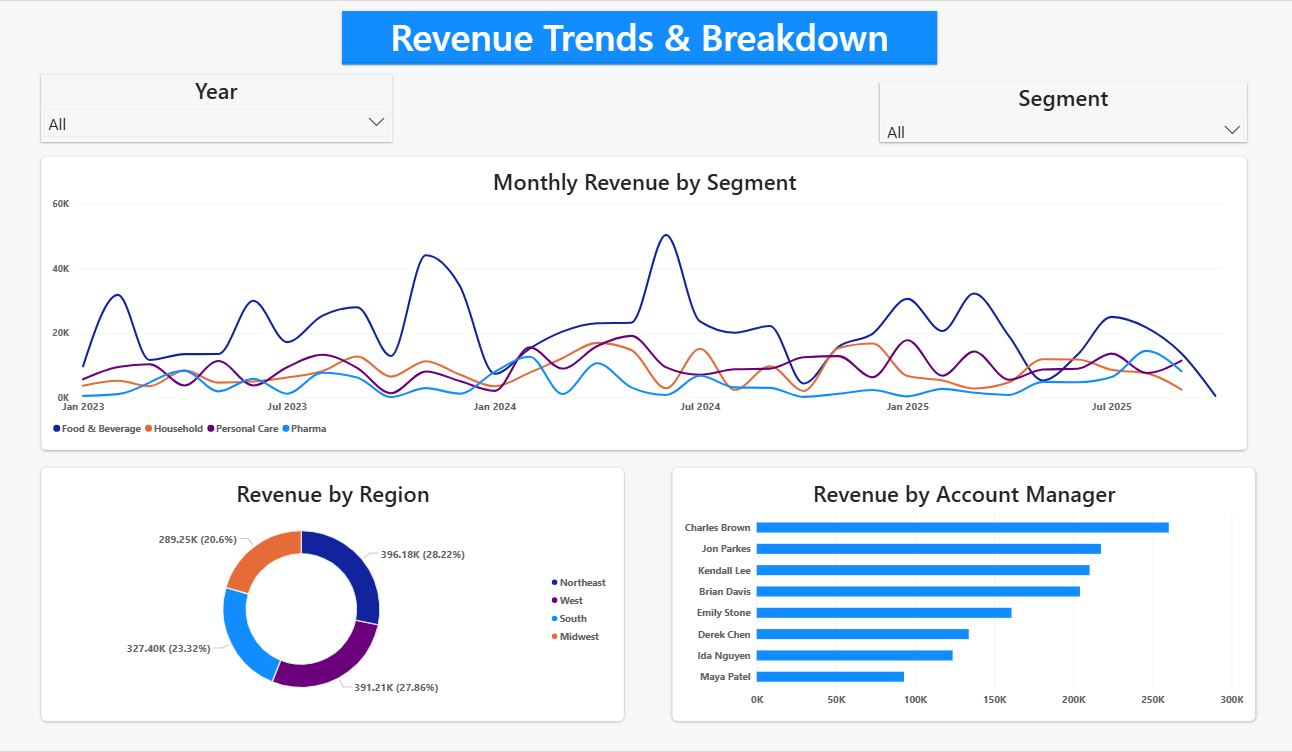

The page's visual inventory and layout, read from the dashboard file:
{"tool":"powerbi","page":{"name":"Revenue Trends","canvas":[1920,1080],"ordinal":1},"visuals":[{"type":"lineChart","title":"Monthly Revenue by Segment","fields":{"Category":["dim_Date.YearMonth"],"Series":["dim_Customers.Segment"],"Y":["_Measures.Total Revenue"]},"box":[98.3,223.7,1735.6,423.3],"z":0},{"type":"donutChart","title":"Revenue by Region","fields":{"Category":["dim_Customers.Region"],"Y":["_Measures.Total Revenue"]},"box":[98.3,671.2,839.1,365.9],"z":1000},{"type":"slicer","title":"Year","fields":{"Values":["dim_Date.Year"]},"box":[98.3,105.8,504.9,96.8],"z":2000},{"type":"barChart","title":"Revenue by Account Manager","fields":{"Category":["dim_Customers.AccountManager"],"Y":["_Measures.Total Revenue"]},"box":[1006.9,671.2,839.1,365.9],"z":3000},{"type":"slicer","title":"Segment","fields":{"Values":["dim_Customers.Segment"]},"box":[1304.7,116.4,529.1,86.2],"z":4000},{"type":"shape","title":"Revenue Trends & Breakdown","box":[532.2,15.1,855.7,77.1],"z":5001}]}

Visuals, with their boxes on the page's 1920x1080 design canvas (x1, y1, x2, y2). These are canvas units, not pixel positions in the 1292x752 screenshot, which may show the page scaled, cropped or inside an application window:
"Monthly Revenue by Segment" lineChart: [98,224,1834,647]
"Revenue by Region" donutChart: [98,671,937,1037]
"Year" slicer: [98,106,603,203]
"Revenue by Account Manager" barChart: [1007,671,1846,1037]
"Segment" slicer: [1305,116,1834,203]
"Revenue Trends & Breakdown" shape: [532,15,1388,92]
